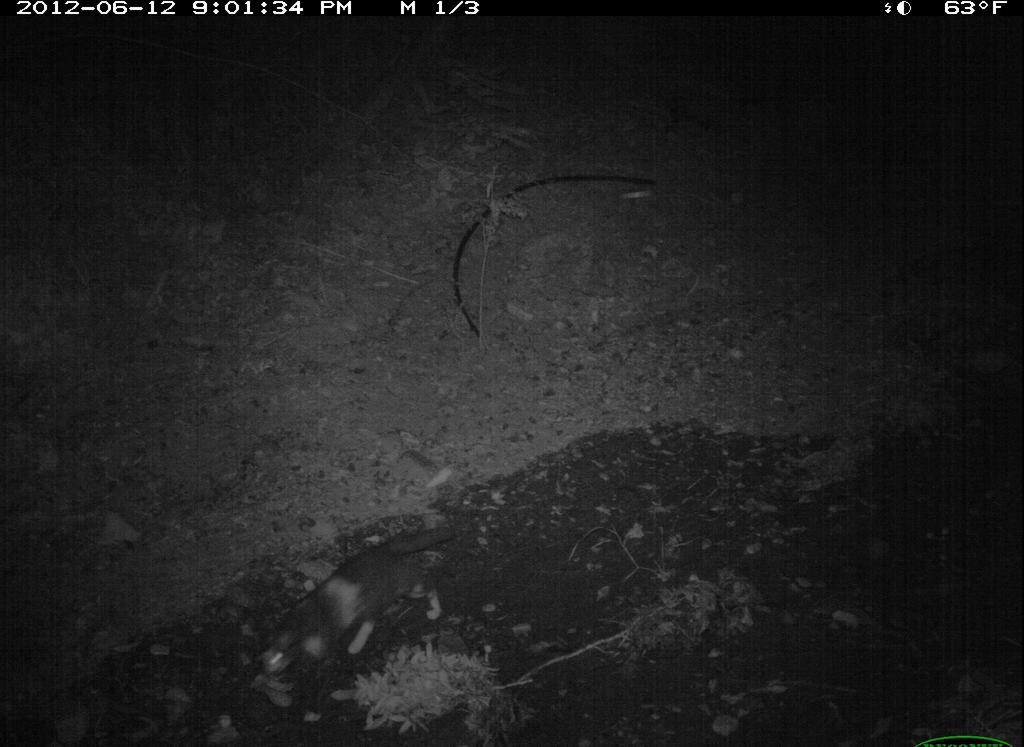cat: (248, 509, 483, 693)
